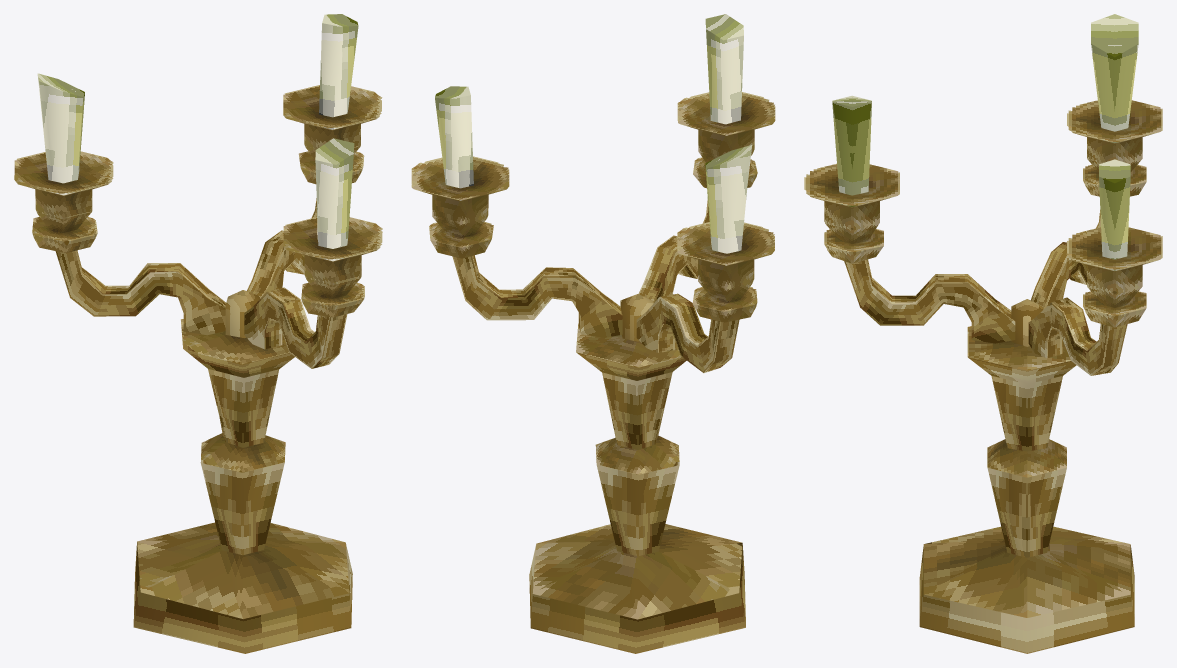
File: orou-2.glb
The picture shows the model from 3 angles, left to right: view 1: azimuth 30°, elevation 25°; view 2: azimuth 150°, elevation 25°; view 3: azimuth 270°, elevation 25°; orthographic projection. The views are drawn at different scales.
Visible parts, largest first — view 1: orou; view 2: orou; view 3: orou.
Part boxes in pixels (x1,y1,x2,y2): orou: (14, 14, 382, 653); orou: (411, 14, 775, 653); orou: (804, 14, 1162, 653).
Size of the model in its own units: 104 by 142 by 90.
3 materials, 3 textured.
